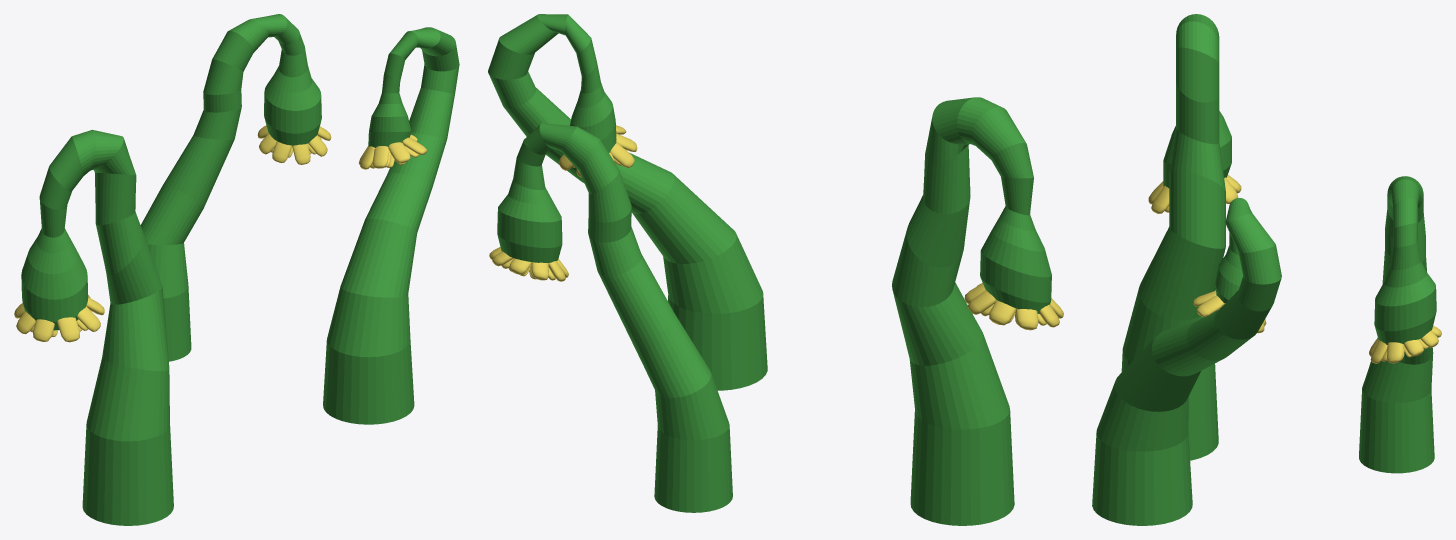
File: flower2.fbx
3 views of the same model, side by side, from view 1: azimuth 30°, elevation 25°; view 2: azimuth 150°, elevation 25°; view 3: azimuth 270°, elevation 25° (orthographic). The views are drawn at different scales.
Parts seen in each view (by area): view 1: Cylinder.008, Cylinder.010, Cylinder.012, Cylinder.015, Cylinder.016, Cylinder.017; view 2: Cylinder.008, Cylinder.012, Cylinder.010, Cylinder.015, Cylinder.016, Cylinder.017; view 3: Cylinder.010, Cylinder.008, Cylinder.012, Cylinder.016, Cylinder.015, Cylinder.017.
Boxes of the visible parts, x1=… form: Cylinder.008: x1=21, y1=129, x2=173, y2=525; Cylinder.010: x1=323, y1=27, x2=459, y2=424; Cylinder.012: x1=140, y1=14, x2=321, y2=361; Cylinder.015: x1=14, y1=295, x2=104, y2=342; Cylinder.016: x1=257, y1=125, x2=331, y2=164; Cylinder.017: x1=359, y1=134, x2=426, y2=169; Cylinder.008: x1=892, y1=97, x2=1051, y2=525; Cylinder.012: x1=497, y1=123, x2=732, y2=512; Cylinder.010: x1=488, y1=14, x2=767, y2=390; Cylinder.015: x1=964, y1=283, x2=1063, y2=330; Cylinder.016: x1=489, y1=247, x2=568, y2=281; Cylinder.017: x1=558, y1=125, x2=637, y2=177; Cylinder.010: x1=1092, y1=198, x2=1281, y2=525; Cylinder.008: x1=1121, y1=14, x2=1231, y2=460; Cylinder.012: x1=1359, y1=176, x2=1436, y2=473; Cylinder.016: x1=1369, y1=325, x2=1441, y2=363; Cylinder.015: x1=1148, y1=175, x2=1241, y2=213; Cylinder.017: x1=1193, y1=290, x2=1266, y2=333.
Bounding box in the file's own units: 468 × 358 × 275.
